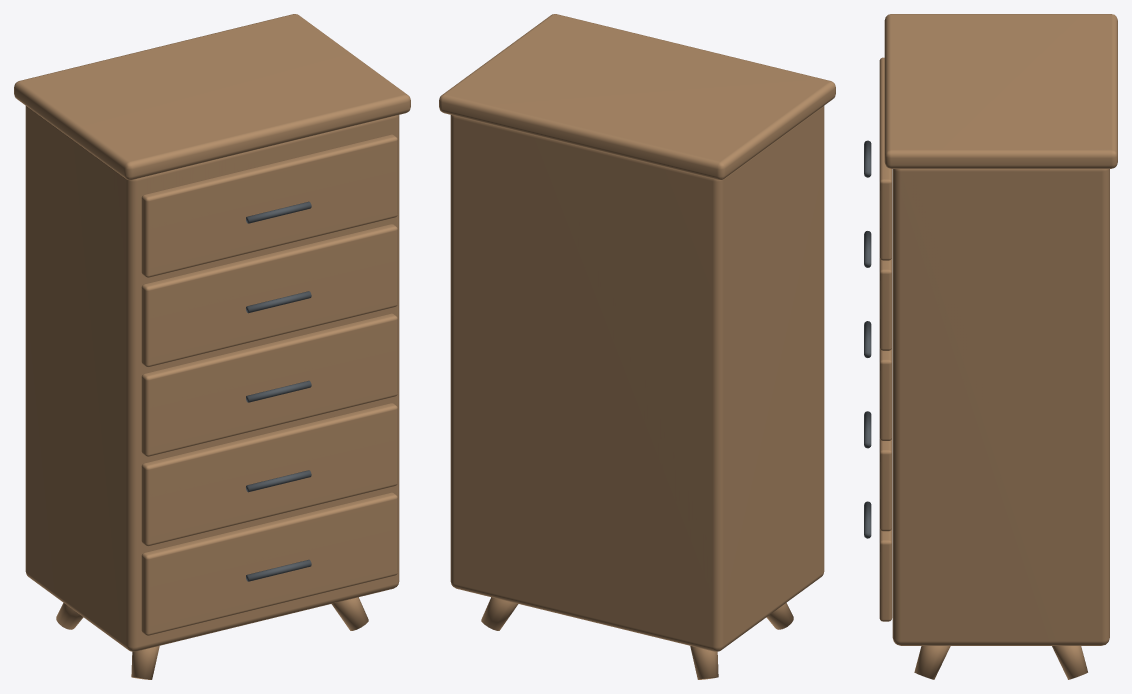
File: atelier-chest-of-drawers.glb
3 renders of one model, left to right at view 1: azimuth 30°, elevation 25°; view 2: azimuth 150°, elevation 25°; view 3: azimuth 270°, elevation 25°, orthographic.
Parts seen in each view (by area): view 1: legs.042, metal.010; view 2: legs.042; view 3: legs.042, metal.010.
Part boxes in pixels (x1=…): legs.042: x1=14, y1=14, x2=410, y2=679; metal.010: x1=246, y1=201, x2=311, y2=581; legs.042: x1=439, y1=14, x2=835, y2=679; legs.042: x1=879, y1=14, x2=1117, y2=679; metal.010: x1=864, y1=140, x2=871, y2=538.
Size of the model in its own units: 0.735 by 1.33 by 0.5605.
